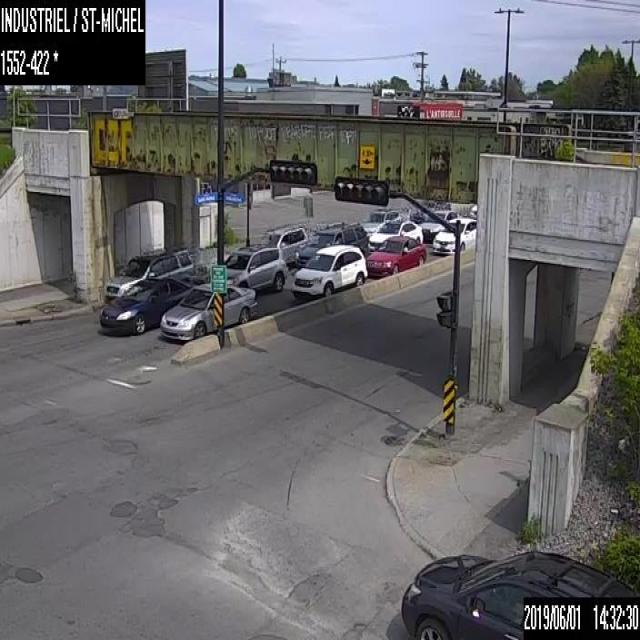vehicle: (398, 548, 636, 639), (98, 276, 195, 341), (159, 282, 257, 342), (103, 250, 194, 299), (291, 244, 366, 298), (294, 223, 368, 269), (222, 244, 286, 293), (366, 235, 425, 276), (258, 228, 309, 268), (368, 220, 422, 252), (432, 217, 478, 254), (418, 208, 462, 240), (360, 209, 401, 233), (470, 202, 476, 216)
